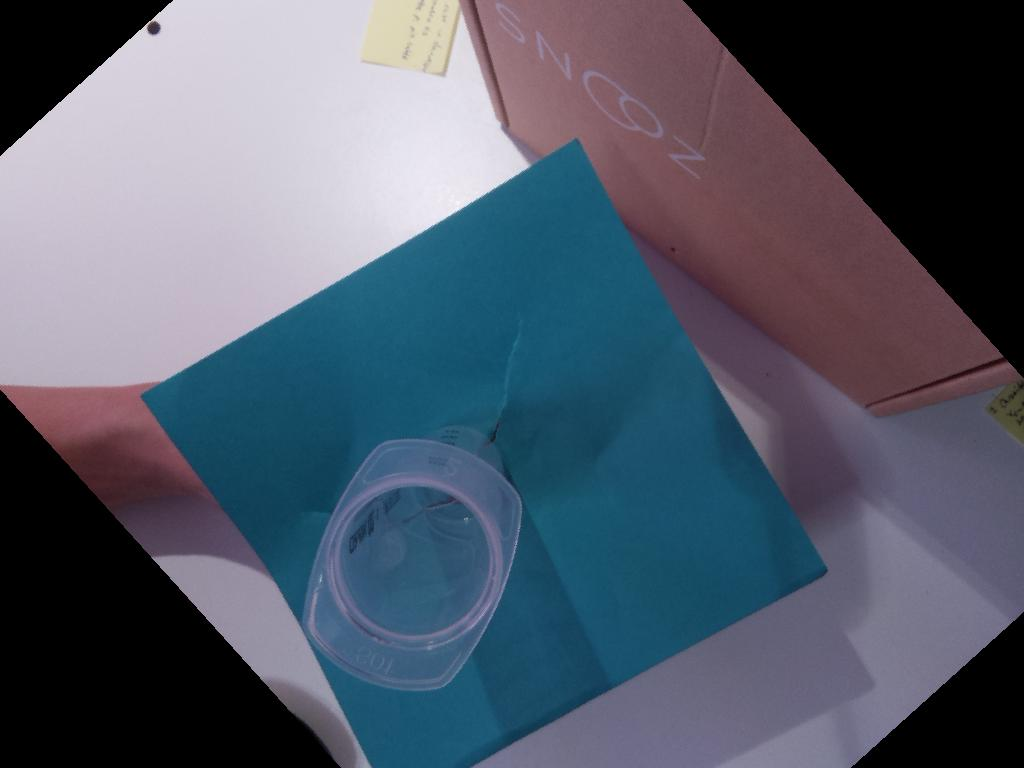clean: (302, 439, 523, 690)
